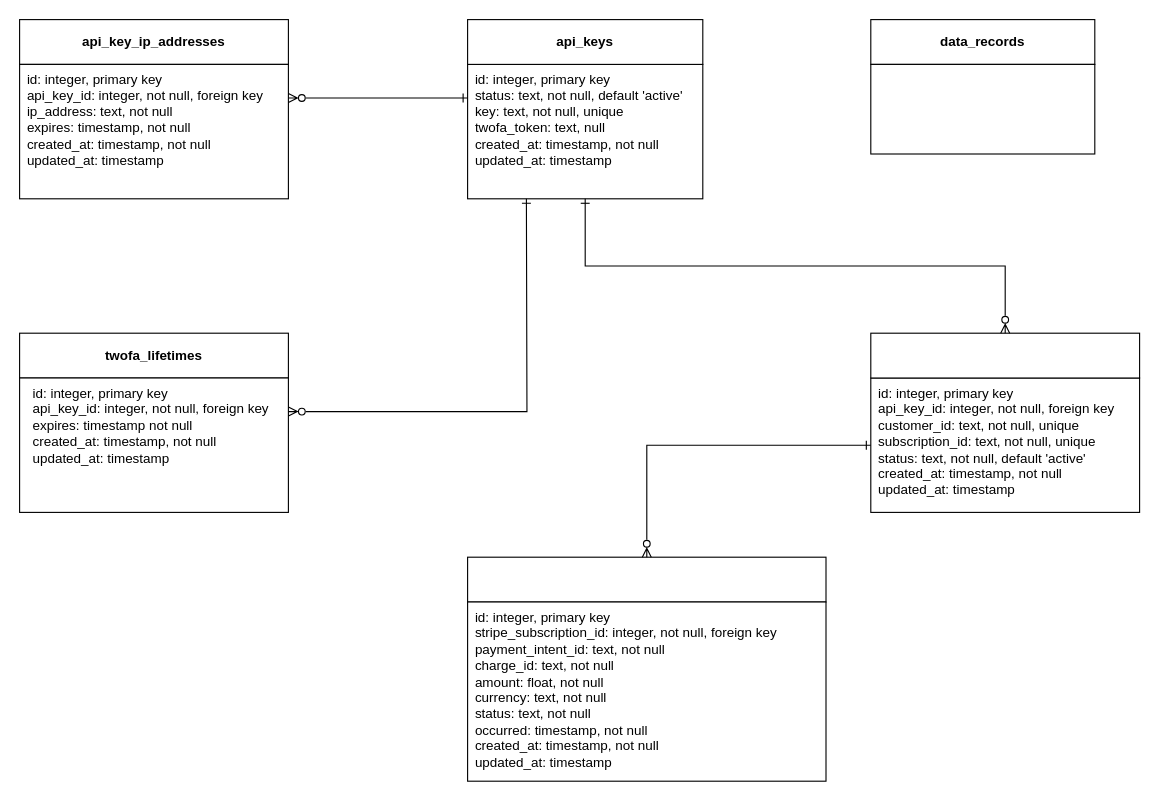
Some shapes in this 1159 by 801 pixel diagram are drawn without their labels. The centre of each missing label's shape, as x and y in pixels:
"id: integer, primary key session_key: text, not null data: text, not null" goes at (982,108).
"stripe_payments" goes at (646,579).
"stripe_subscriptions" goes at (1005,355).
